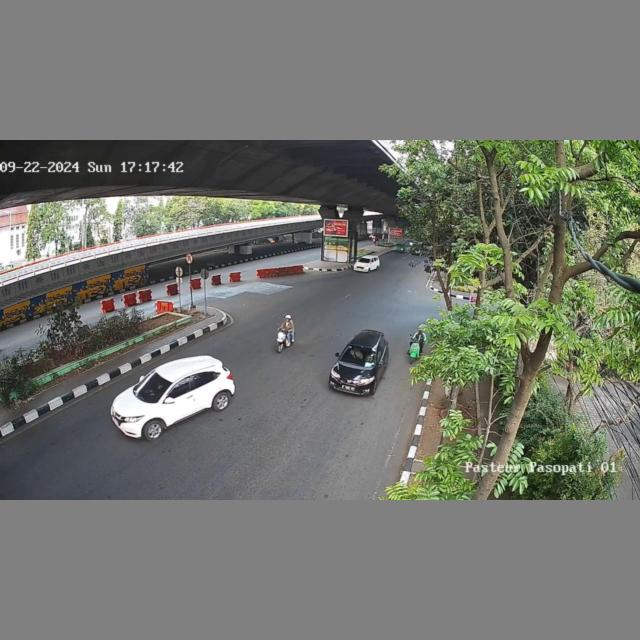windshield: (134, 372, 173, 399), (335, 343, 379, 366)
